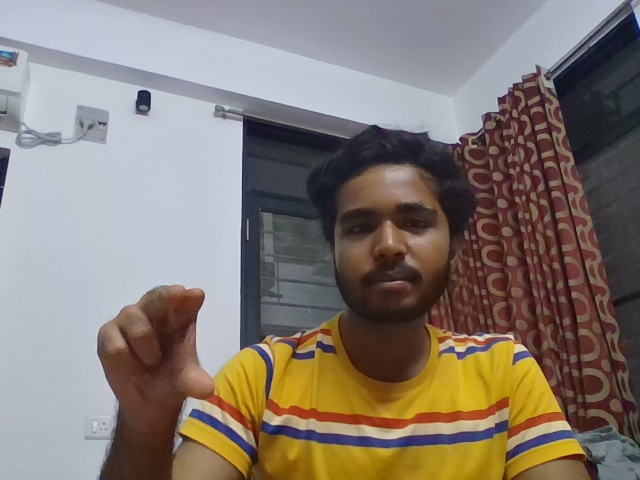No: (77, 270, 236, 428)
